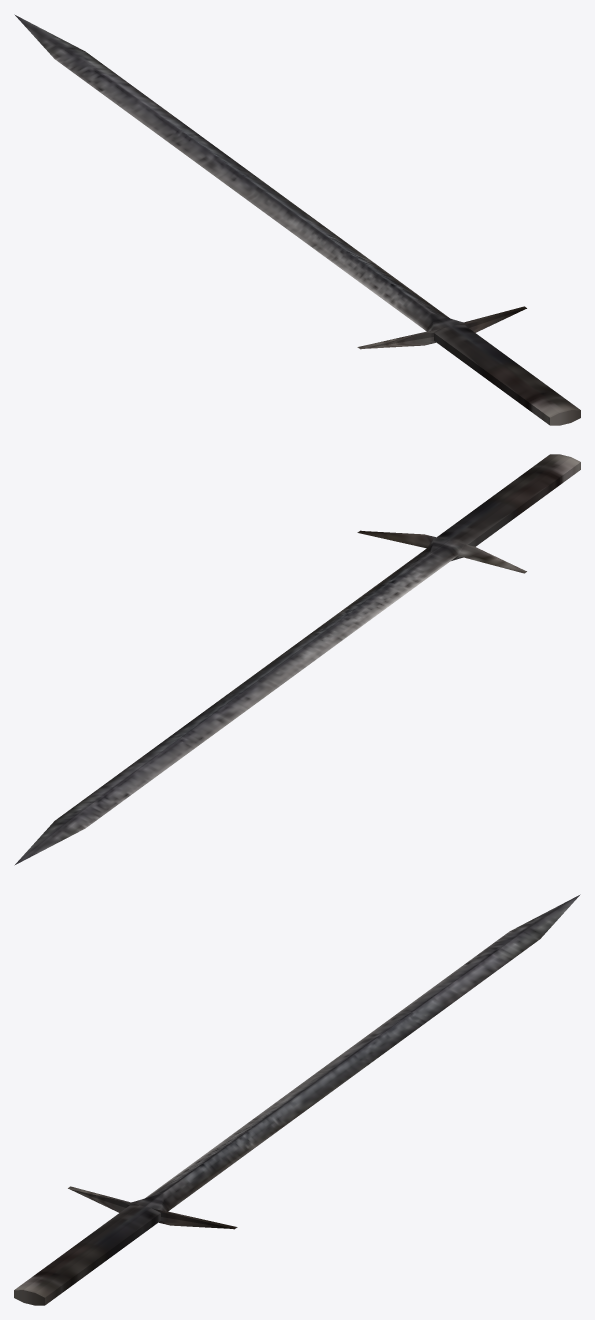
The model's file is blackswordLATER.glb.
3 renders of one model, top to bottom at view 1: azimuth 30°, elevation 25°; view 2: azimuth 150°, elevation 25°; view 3: azimuth 330°, elevation 25°, orthographic.
Visible parts, largest first — view 1: Cube; view 2: Cube; view 3: Cube.
Boxes of the visible parts, x1,y1,x2,y2 form: Cube: (14,14,580,425); Cube: (14,454,580,865); Cube: (14,894,580,1305).
Bounding box in the file's own units: 0.5703 × 0.0459 × 3.26.
1 material, 1 textured.
